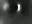person: (4, 4, 10, 13), (18, 4, 23, 14)
